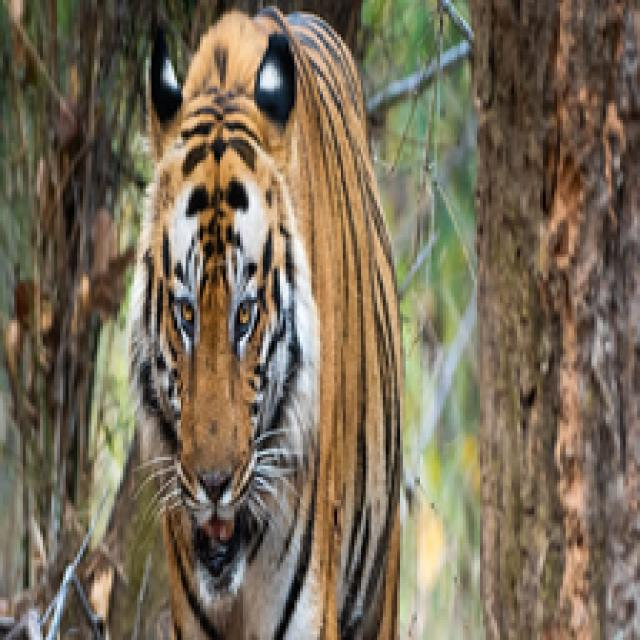tiger: (125, 11, 439, 640)
